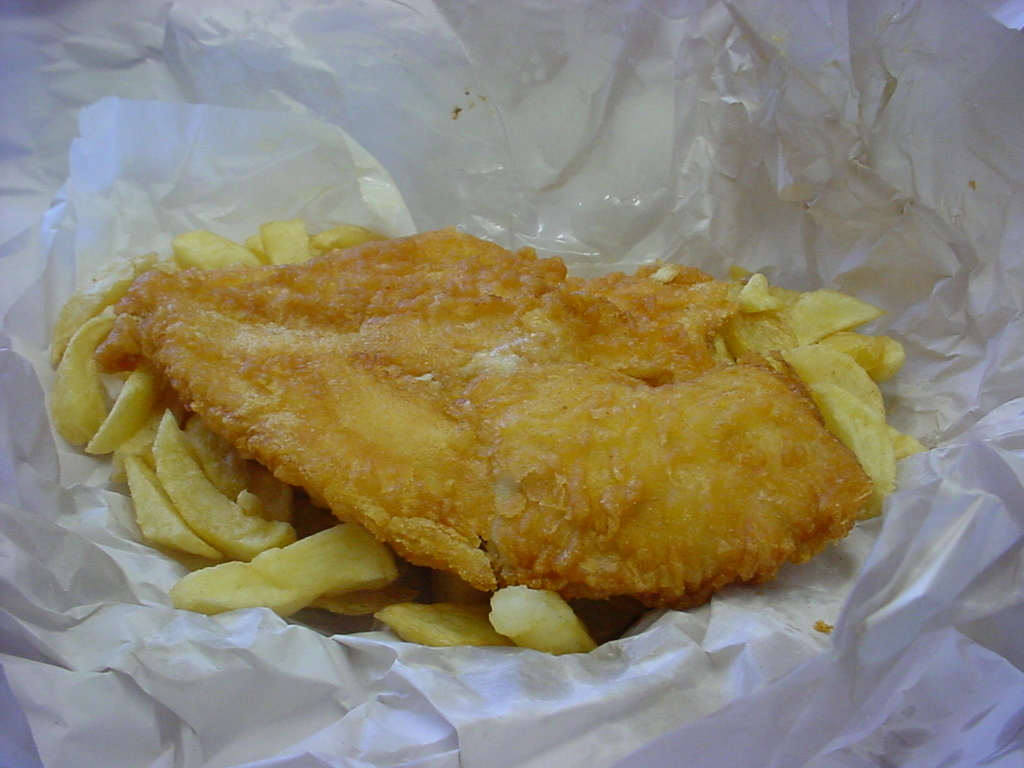French fries: (48, 219, 927, 654)
